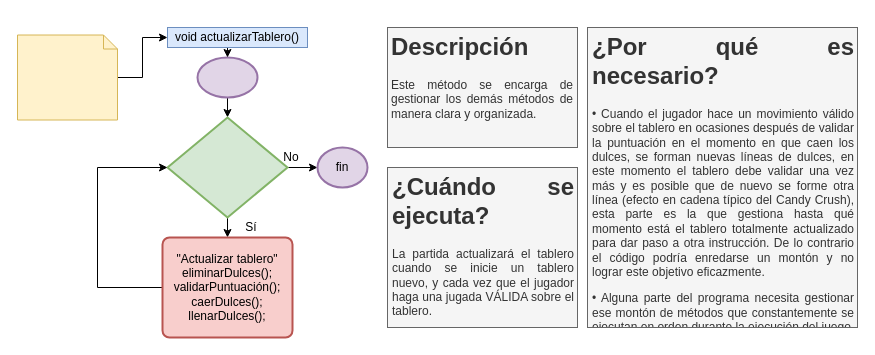
This 875x355 diagram has some shape labels left out. Each missing label, with the centre of its shape:
"¿Hay línea?" validarTablero();: pixel 227 167
inicio: pixel 227 77
Nota: Esta es una idea general del método.: pixel 67 77
